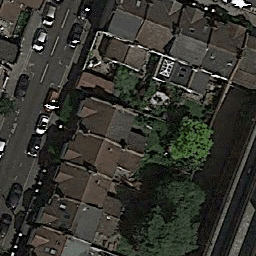car: (5, 182, 24, 210), (65, 22, 83, 50), (13, 73, 30, 100), (42, 89, 61, 113), (31, 28, 48, 54), (41, 3, 58, 29), (25, 135, 42, 158), (34, 113, 50, 137), (1, 212, 13, 239)
